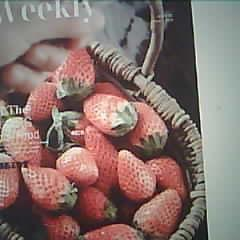straw-ripe: (23, 163, 76, 209), (134, 190, 181, 240), (85, 94, 136, 135), (130, 99, 167, 154), (118, 150, 155, 200), (57, 49, 96, 95)
straw-unripe: (2, 117, 41, 165)
